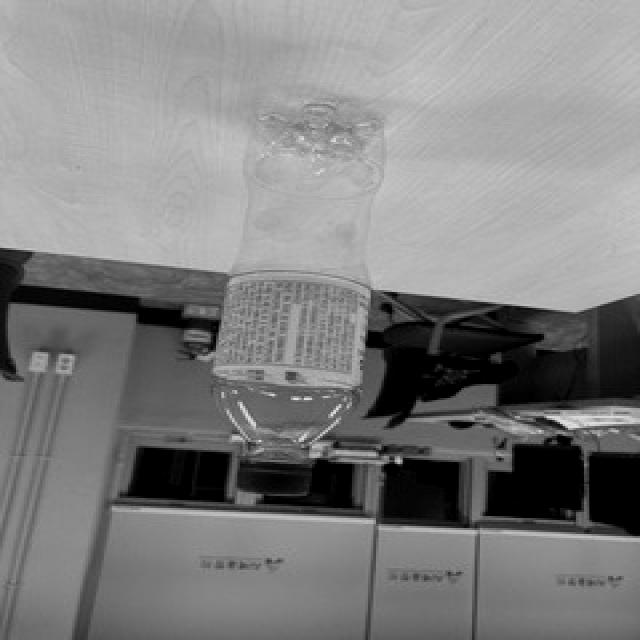bottle: (207, 80, 388, 512)
